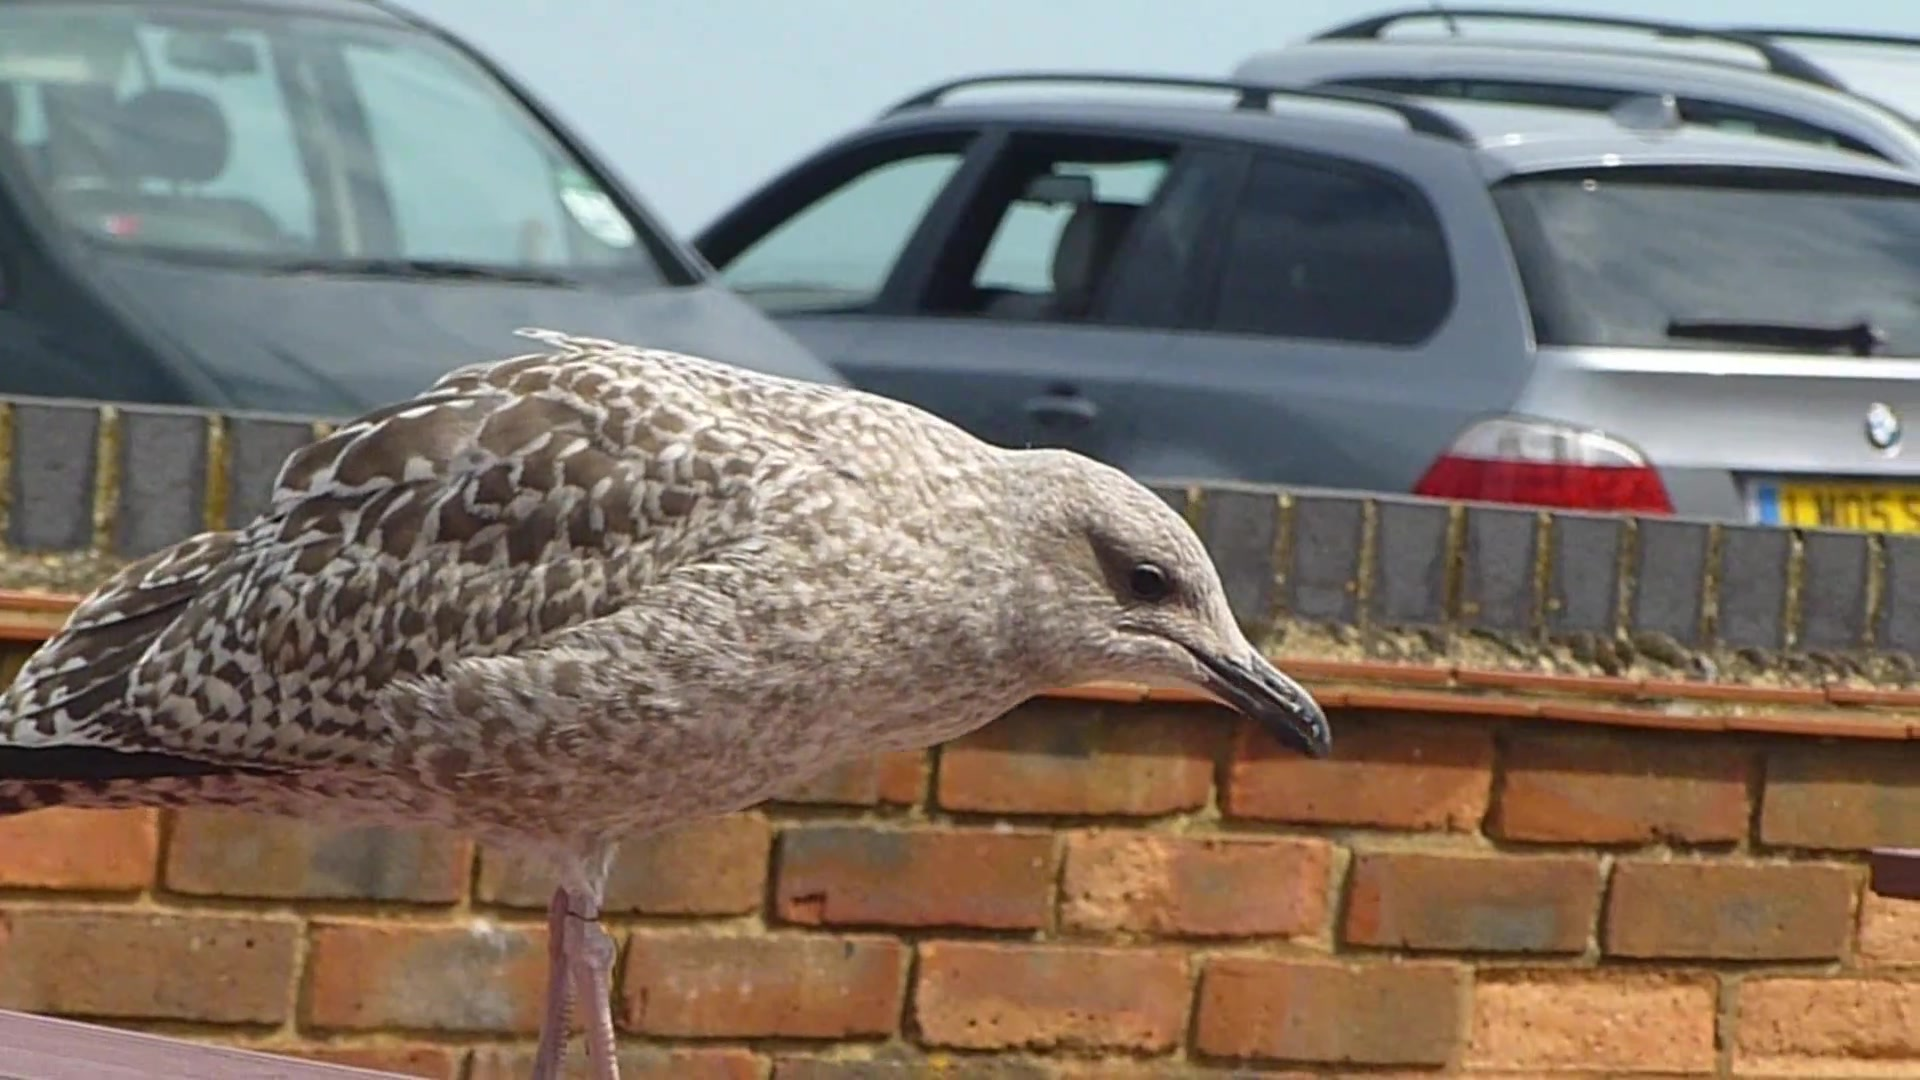bird: (3, 328, 1337, 1080)
